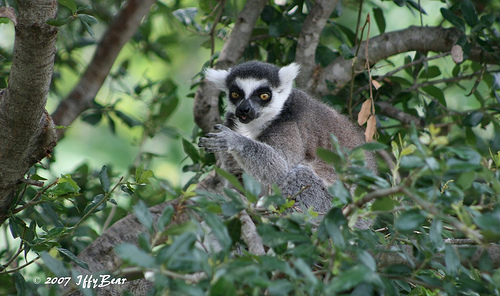cat: (200, 58, 386, 236)
